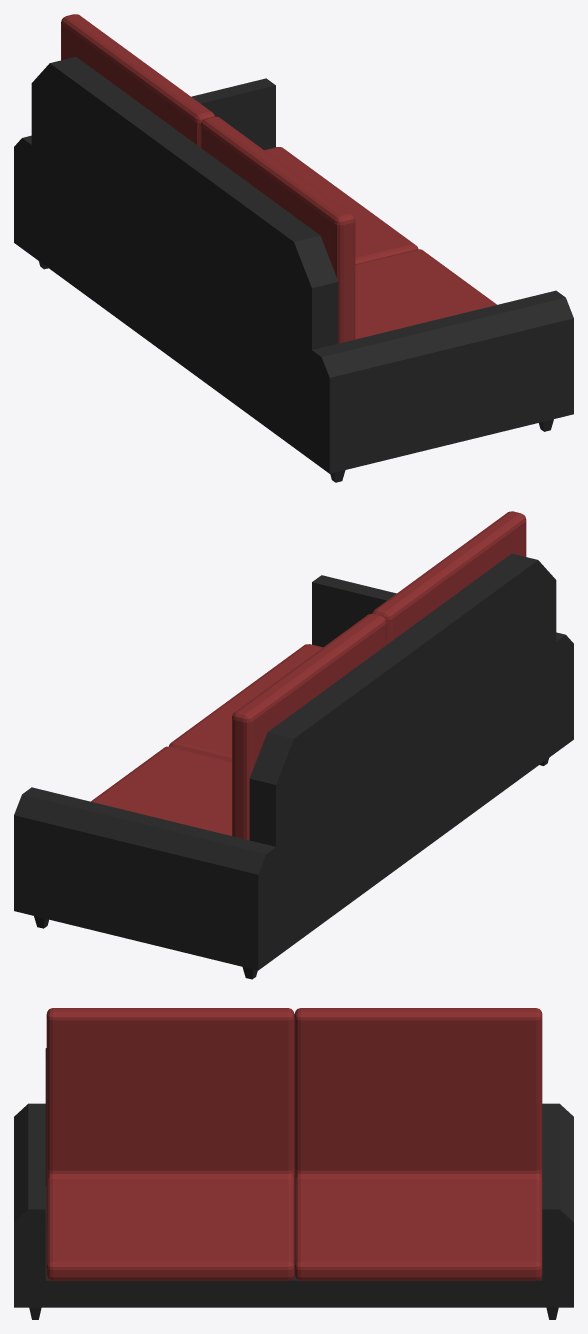
Rendered from Sofa_7.fbx.
3 renders of one model, top to bottom at view 1: azimuth 30°, elevation 25°; view 2: azimuth 150°, elevation 25°; view 3: azimuth 270°, elevation 25°, orthographic. The views are drawn at different scales.
Visible parts, largest first — view 1: Sofa_7; view 2: Sofa_7; view 3: Sofa_7.
Part boxes in pixels (x1,y1,x2,y2): Sofa_7: [14, 14, 573, 482]; Sofa_7: [14, 511, 573, 979]; Sofa_7: [14, 1008, 573, 1319].
Bounding box in the file's own units: 0.6911 × 0.6711 × 1.51.
